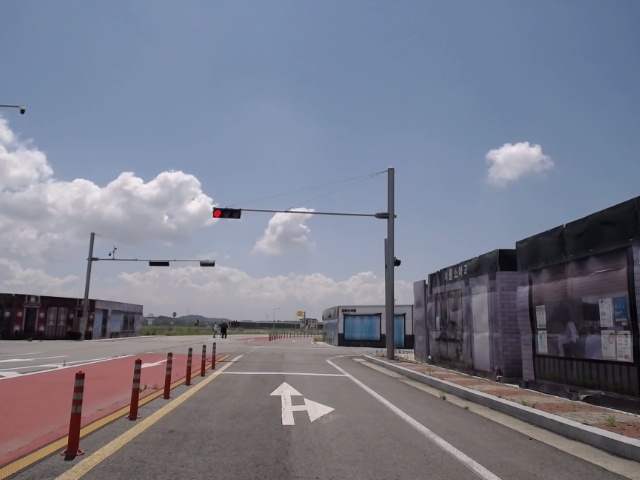red_3: (211, 205, 242, 219)
